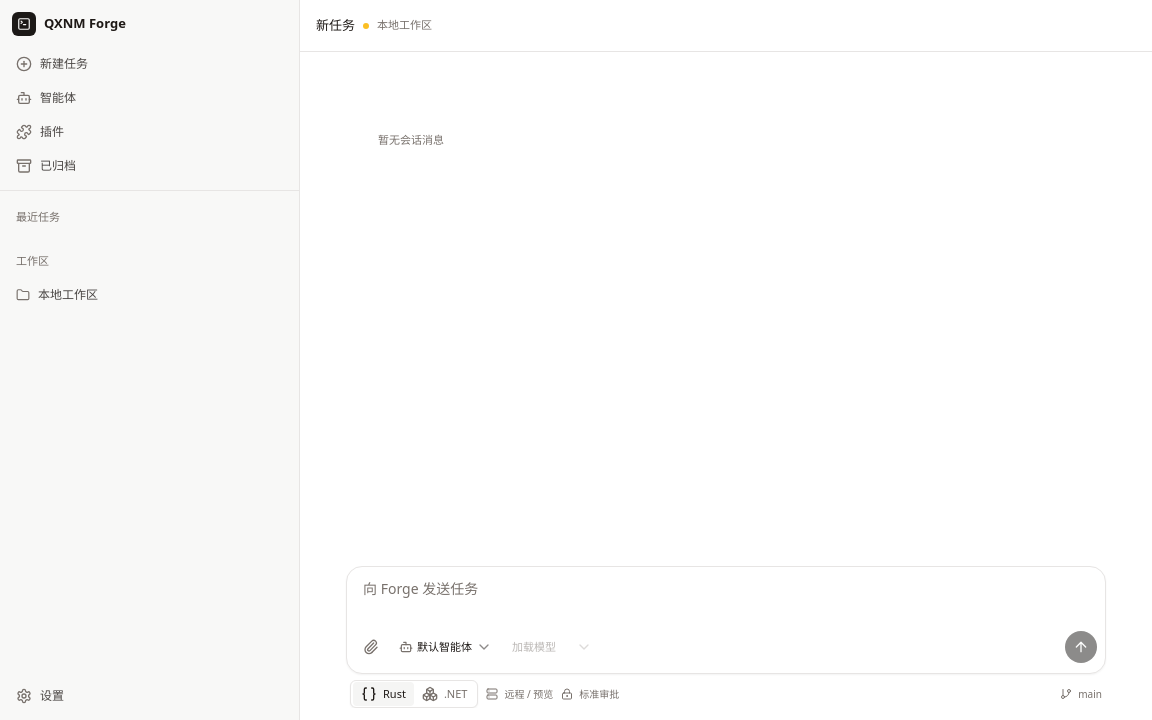
Test: App fail-closed boundaries › rebuilds live and completed assistant messages without an acceptance placeholder
Expected: the button named "发送任务" is disabled, [1065,631,1097,663]
Type "验证真实回复" into the text box named "任务消息".
click(726, 602); type("验证真实回复")  # box [355,575,1097,629]
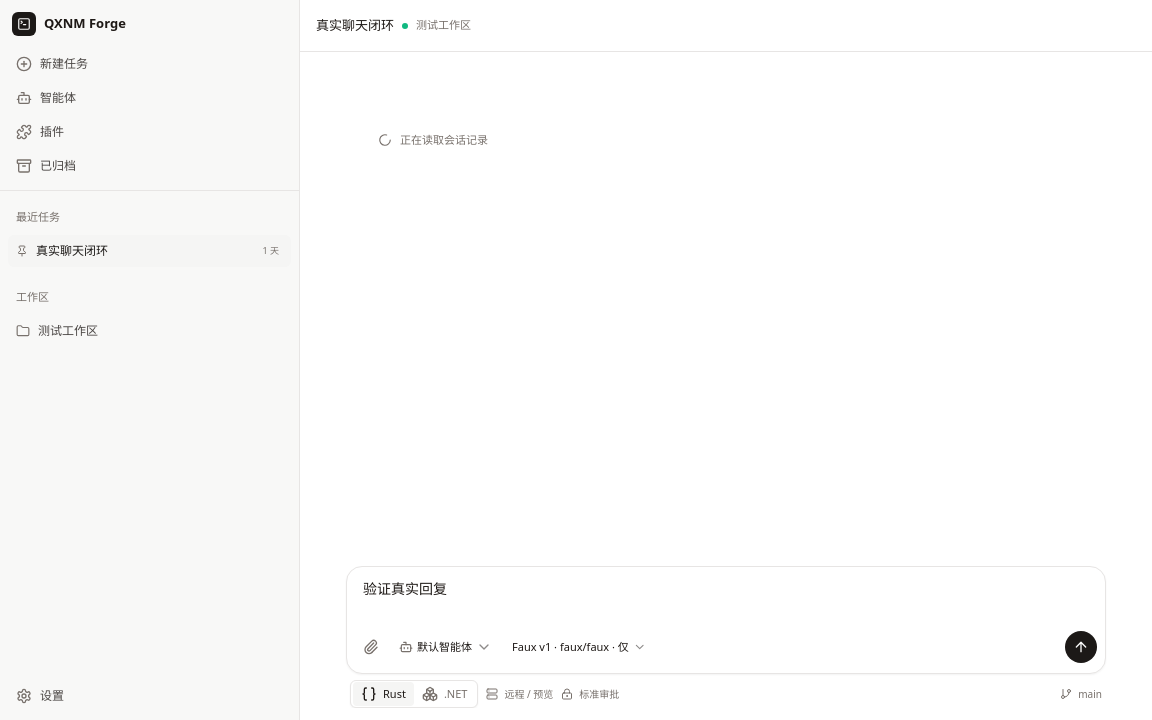
Expected: the button named "发送任务" is enabled
Click the button named "发送任务".
click(1081, 647)  # box [1065,631,1097,663]
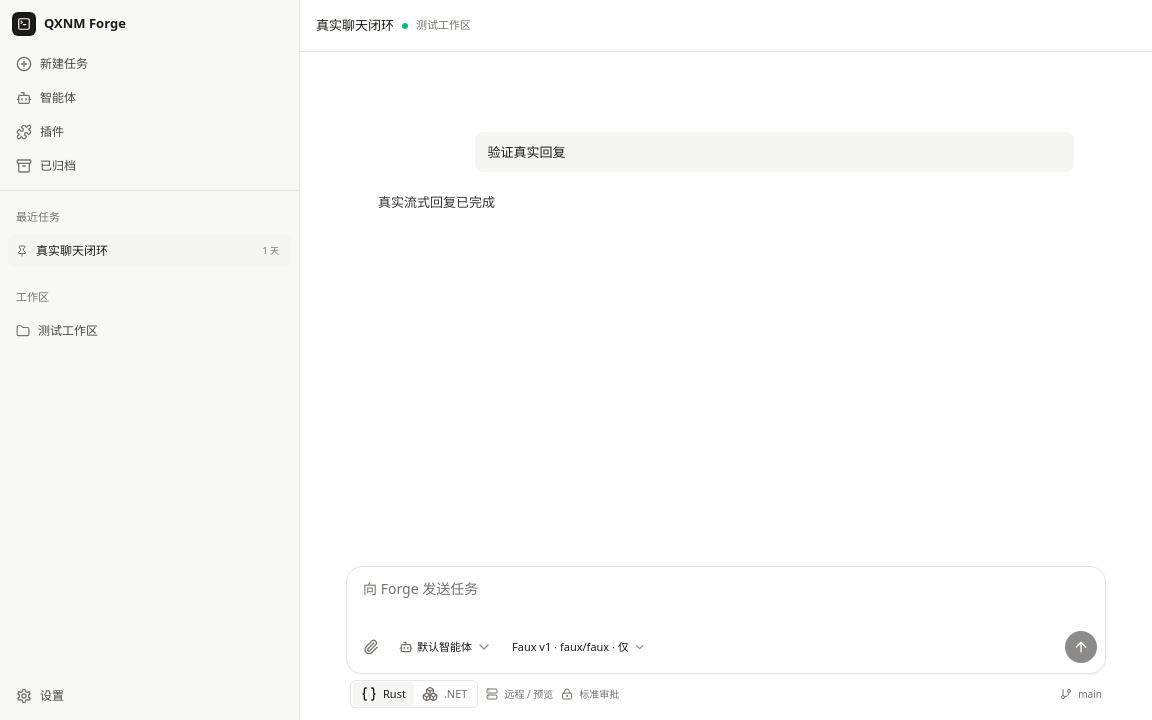
Expected: the text "真实流式回复已完成" is shown, [378,193,495,211]
